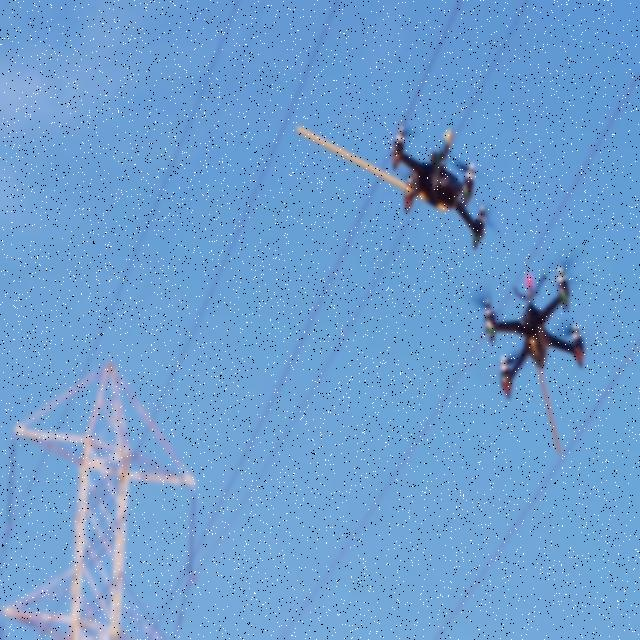UAV: (483, 259, 586, 401), (390, 120, 488, 252)
